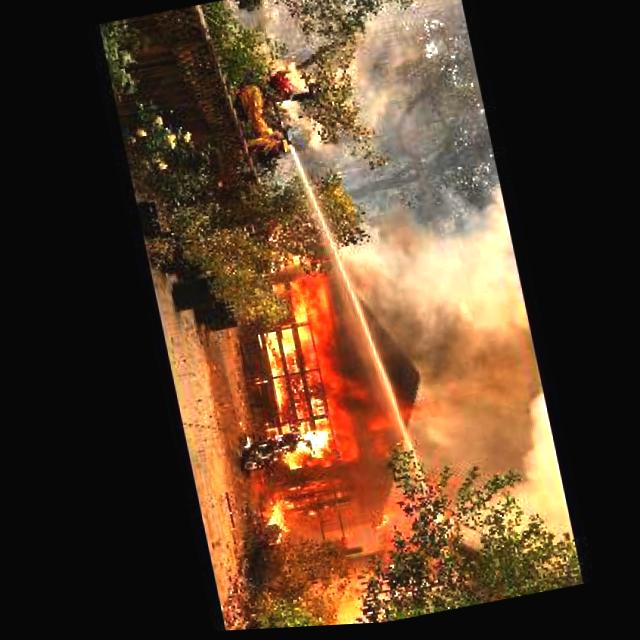Fire: (202, 246, 405, 538)
Smoke: (336, 208, 564, 508)
